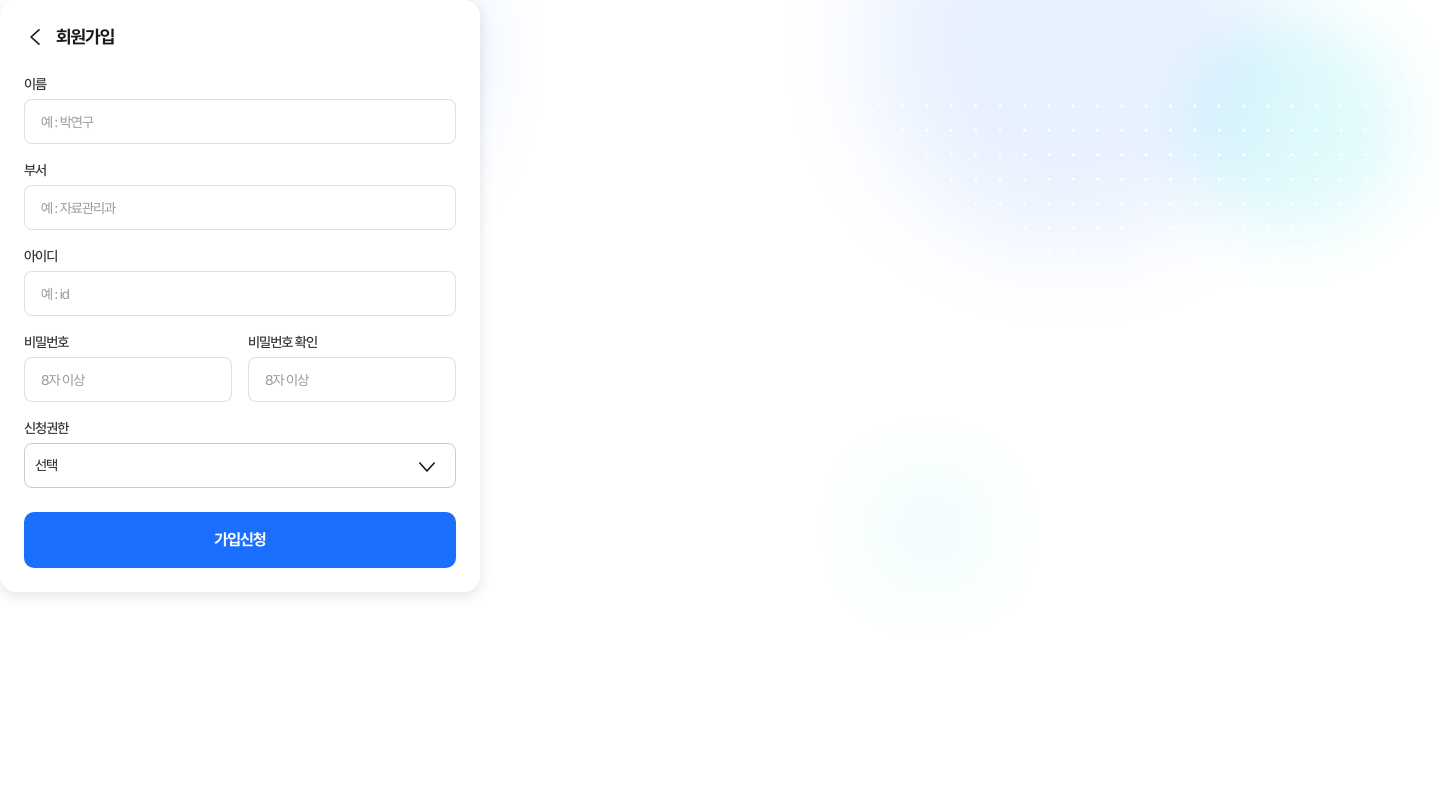
Scenario: join: 제출 배선(POST /auth/join) › 검증 통과 시 서버 계약 그대로 전송하고 200이면 승인 대기 안내로 전환한다
Type "박연구" into the field labelled "이름" at x=240, y=122, box [24, 99, 456, 144]
Type "자료관리과" into the field labelled "부서" at x=240, y=208, box [24, 185, 456, 230]
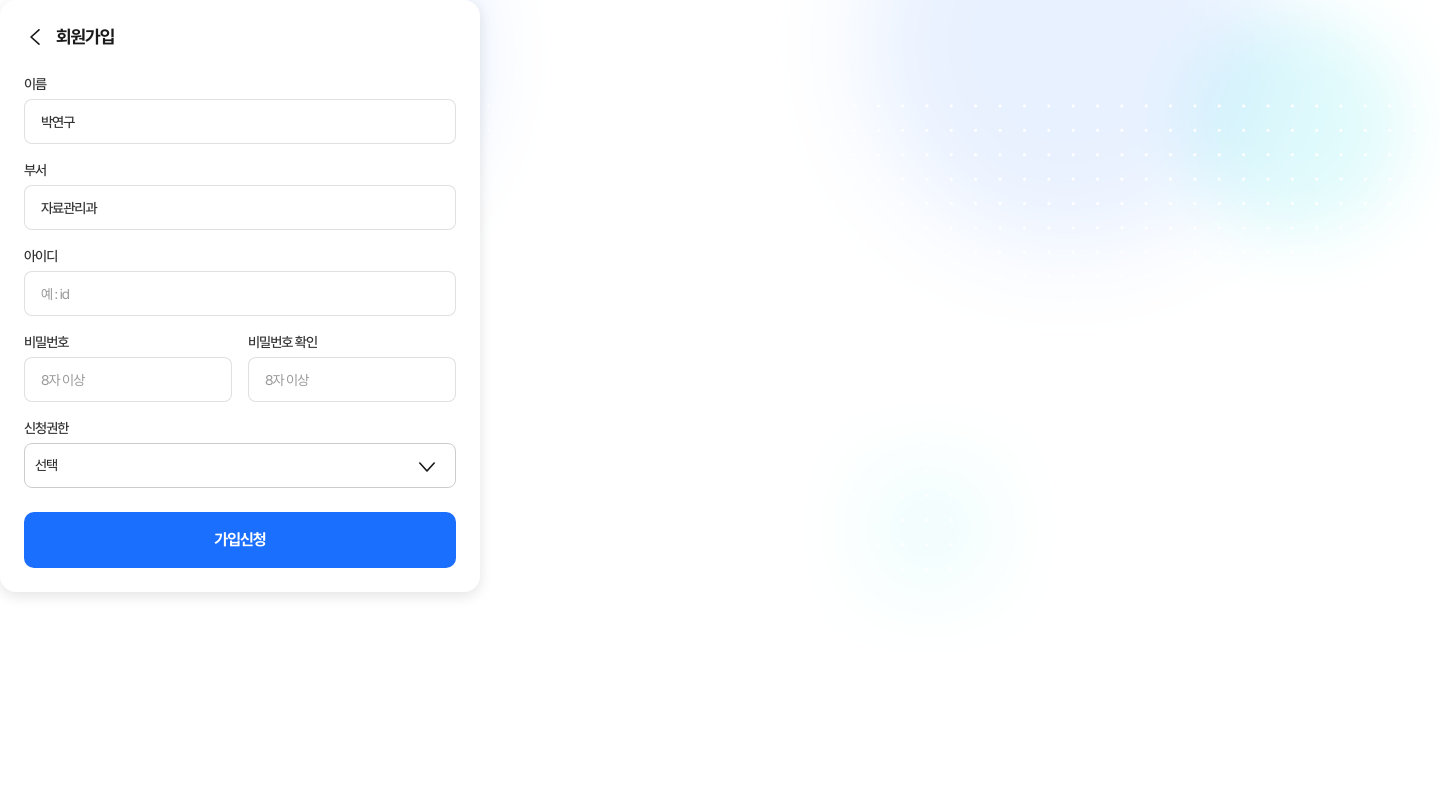
Type "kim01" into the field labelled "아이디" at x=240, y=294, box [24, 271, 456, 316]
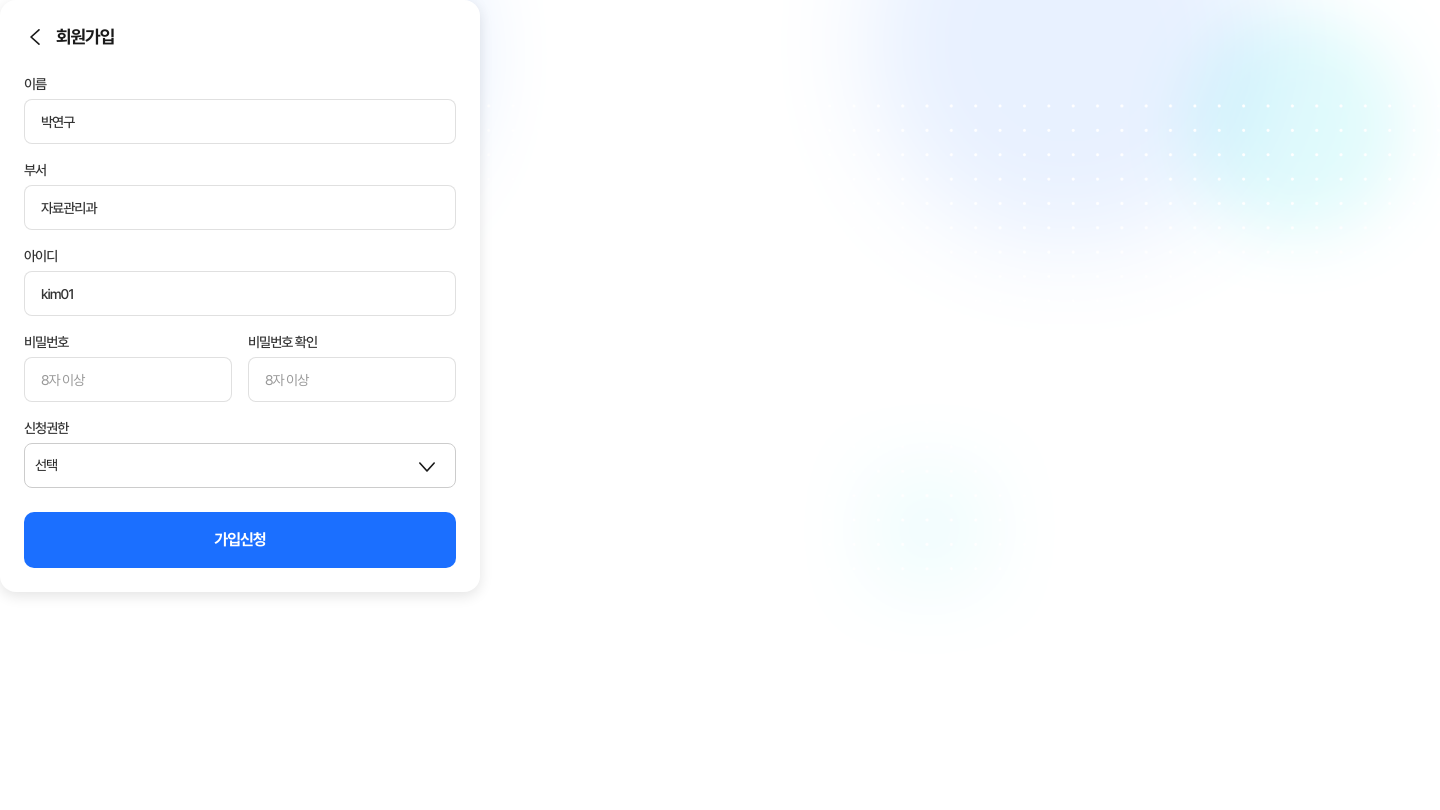
Type "password1" into the password field labelled "비밀번호" at x=128, y=380, box [24, 357, 232, 402]
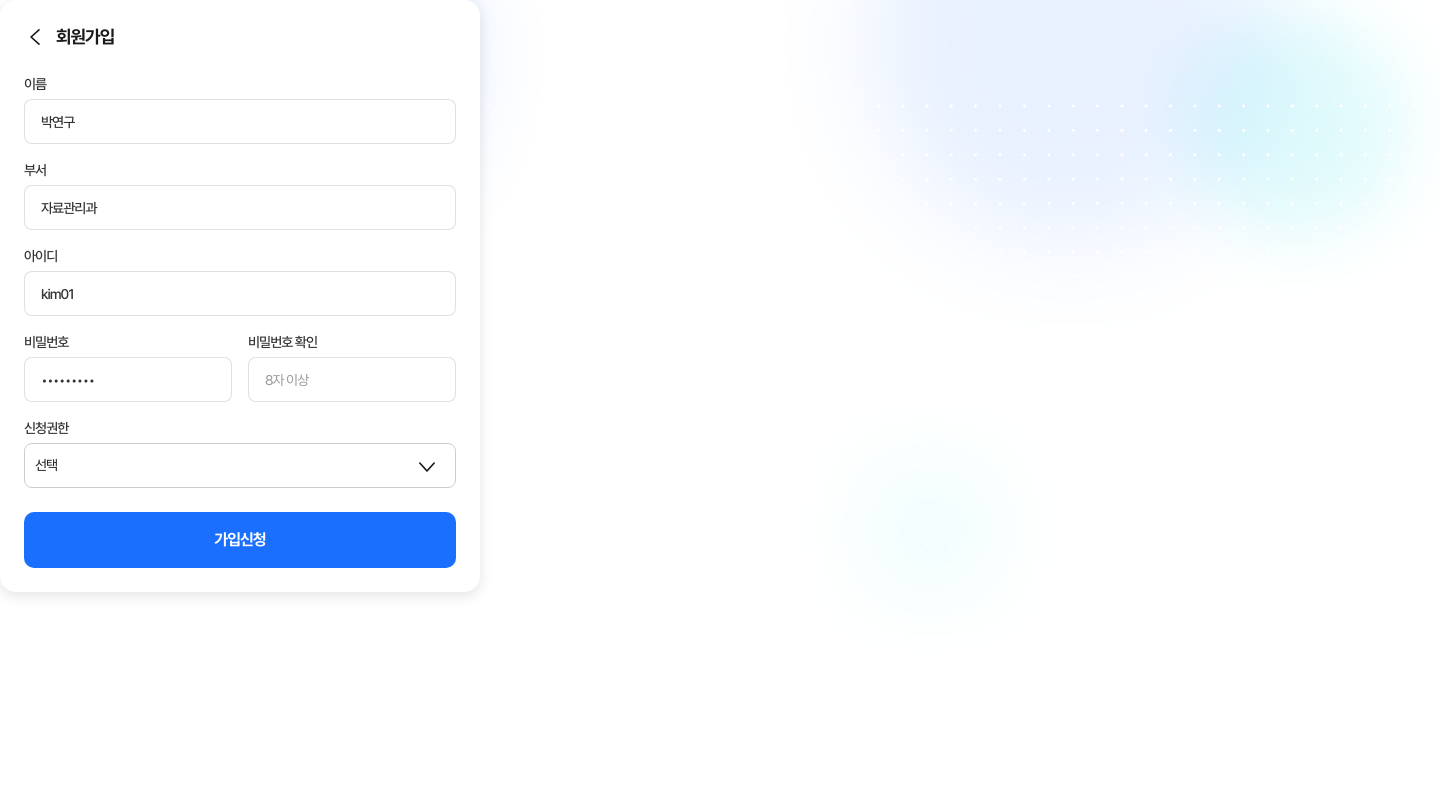
Type "password1" into the password field labelled "비밀번호 확인" at x=352, y=380, box [248, 357, 456, 402]
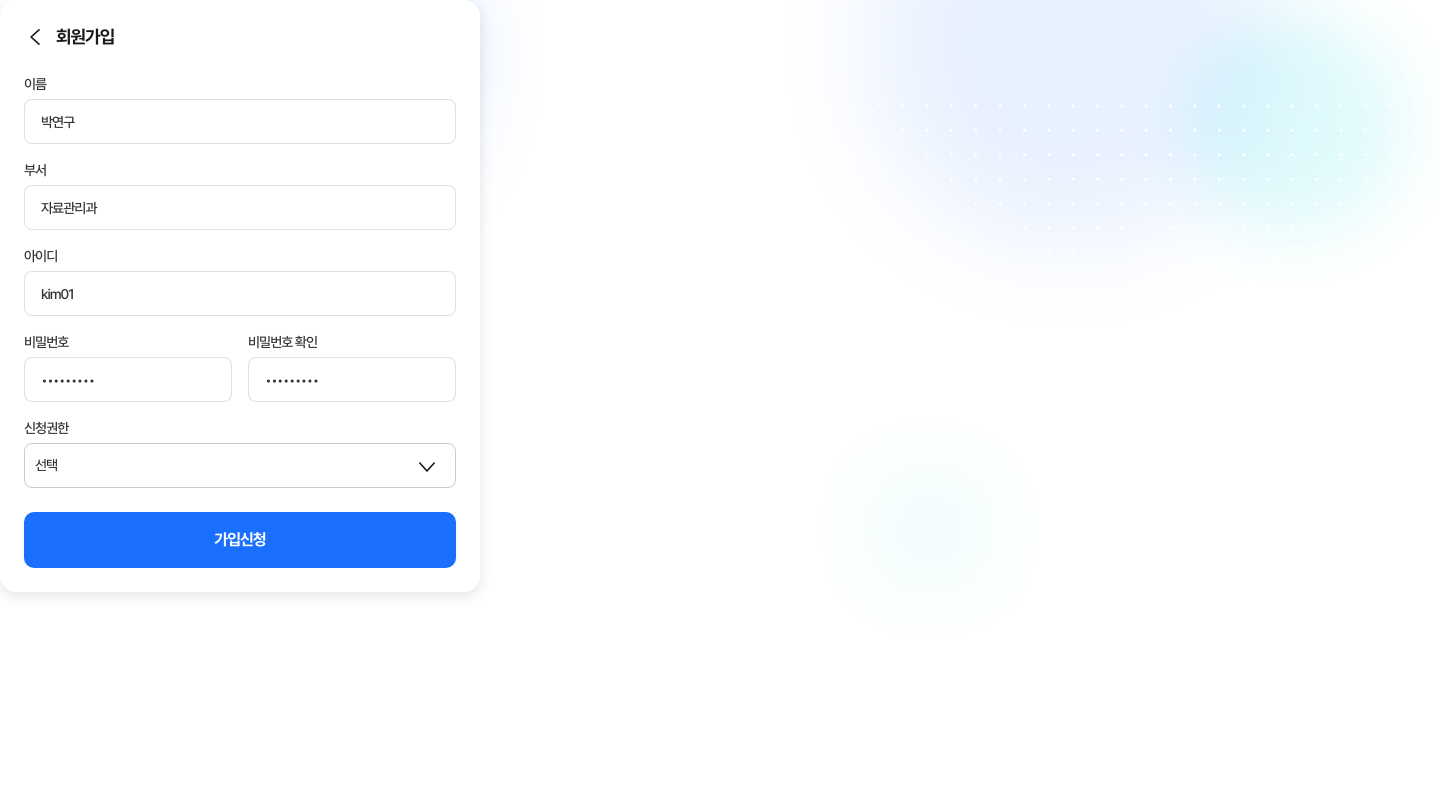
Select "사용자" in the dropdown labelled "신청권한" at x=240, y=466, box [24, 443, 456, 488]
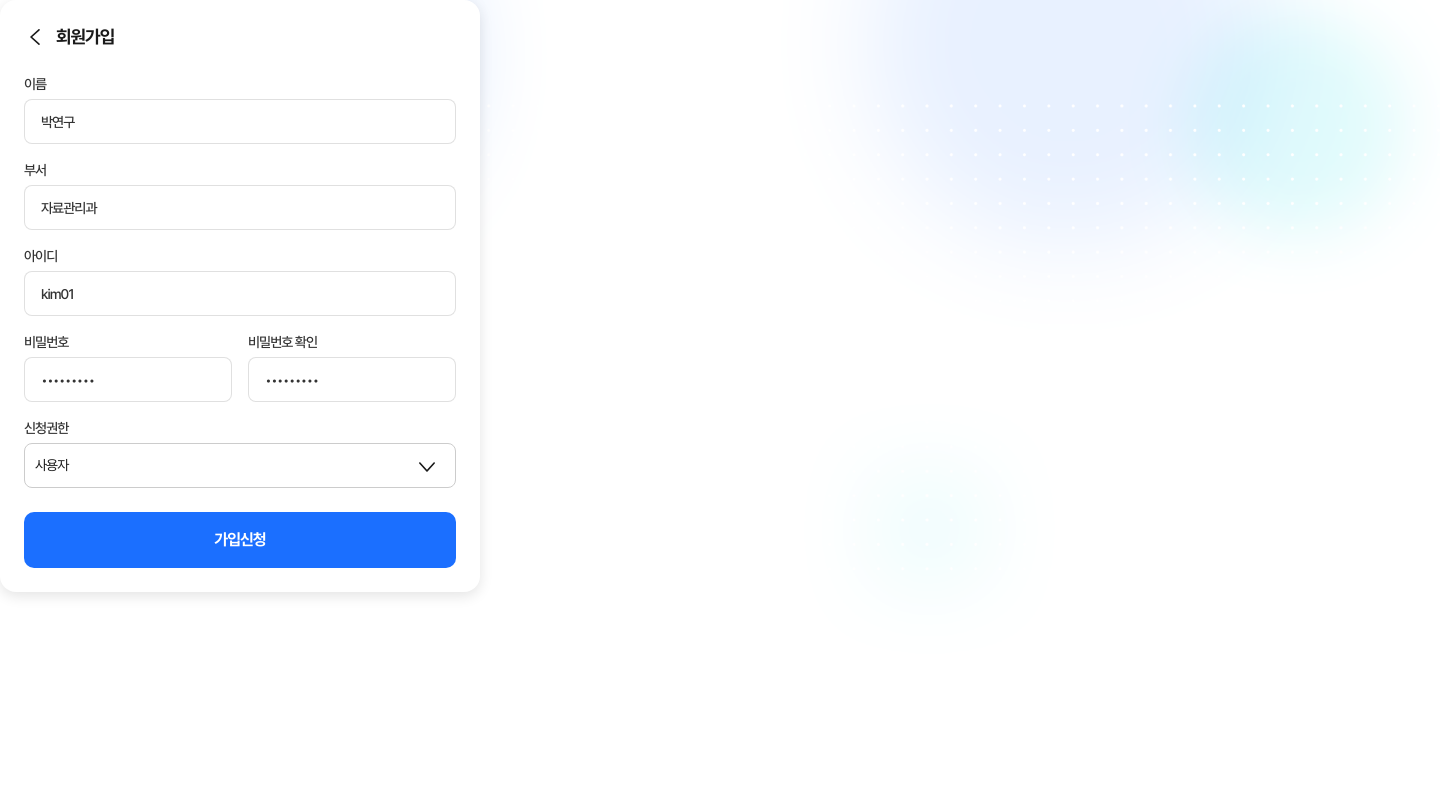
Click the button "가입신청" at x=240, y=540, box [24, 512, 456, 568]
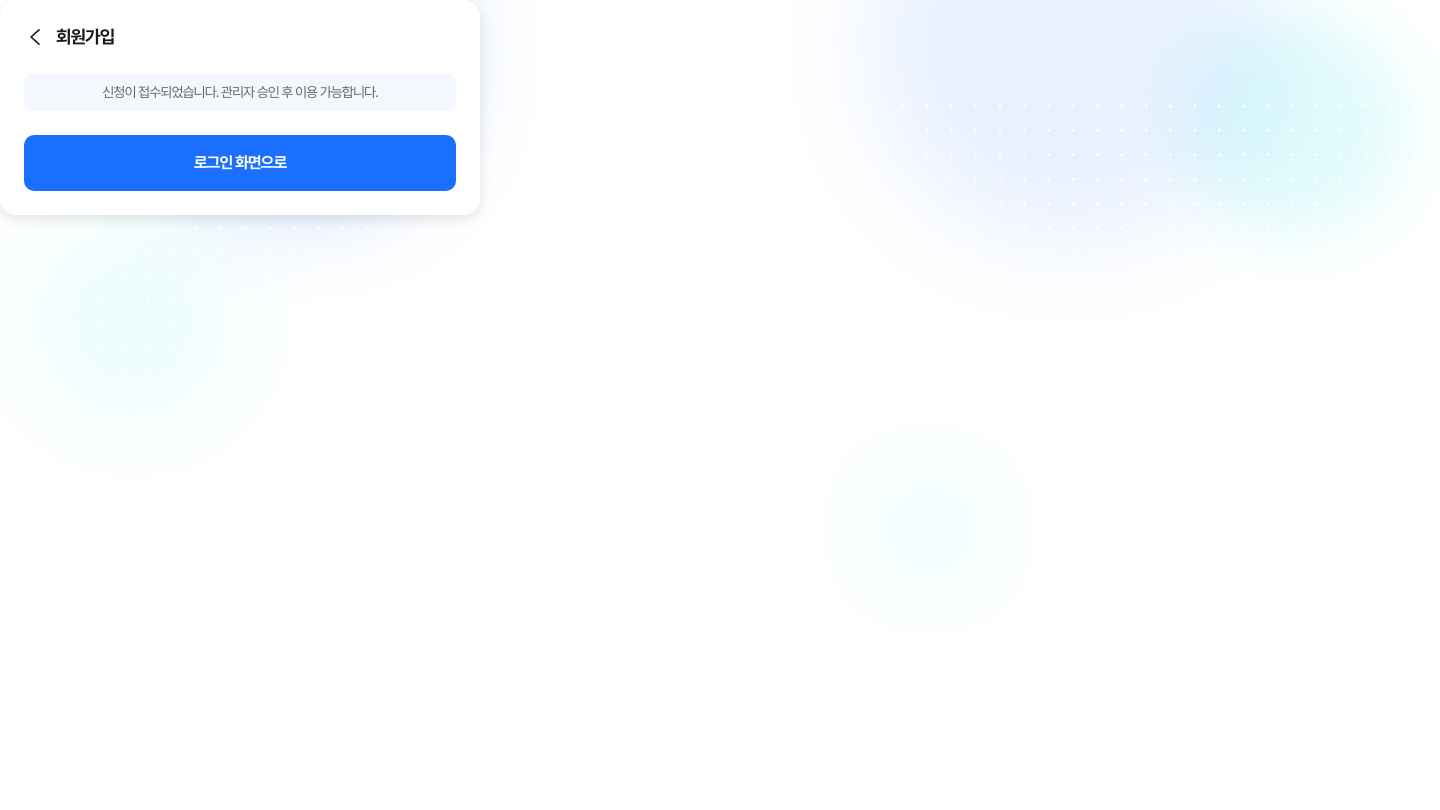
Expected: the text "신청이 접수되었습니다. 관리자 승인 후 이용 가능합니다." is shown, [24, 74, 456, 111]
